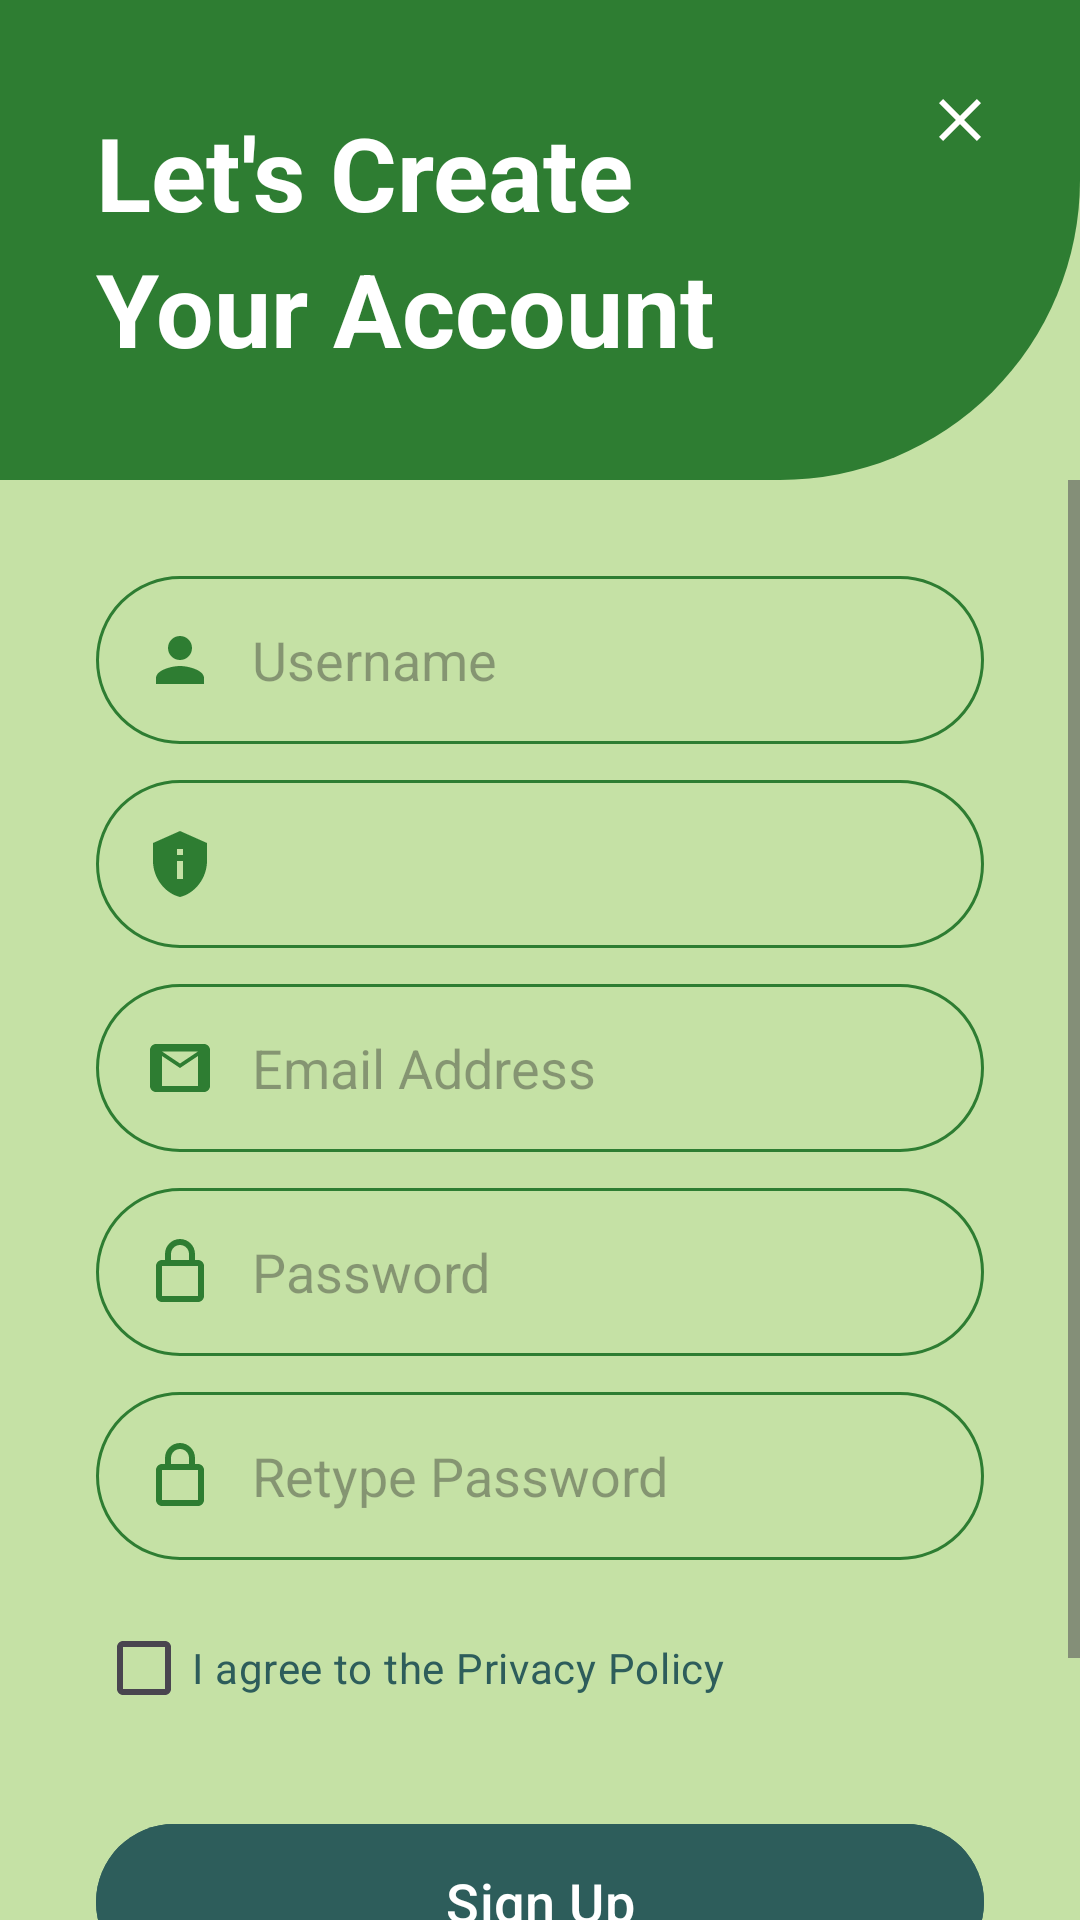

Icons on this 1080x1920 Android screen, each with its box as (x1, y1, x2, y2):
admin: (153, 831, 207, 897)
close: (939, 99, 981, 141)
